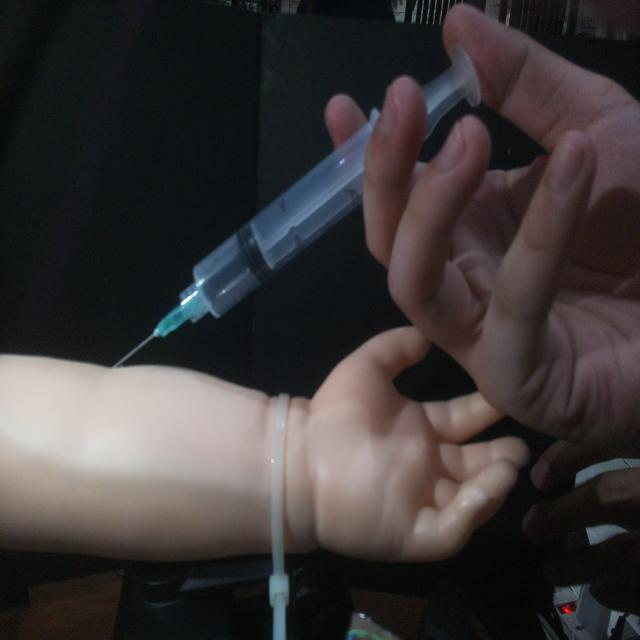30deg: (106, 42, 484, 371)
